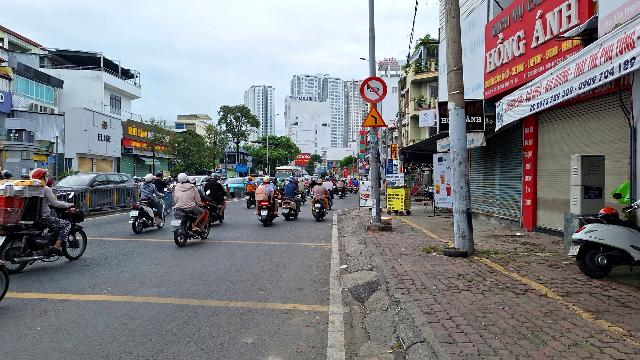cam-bop-coi: (360, 76, 388, 104)
cho-ngoat-nguy-hiem-ben-trai: (361, 105, 387, 128)
